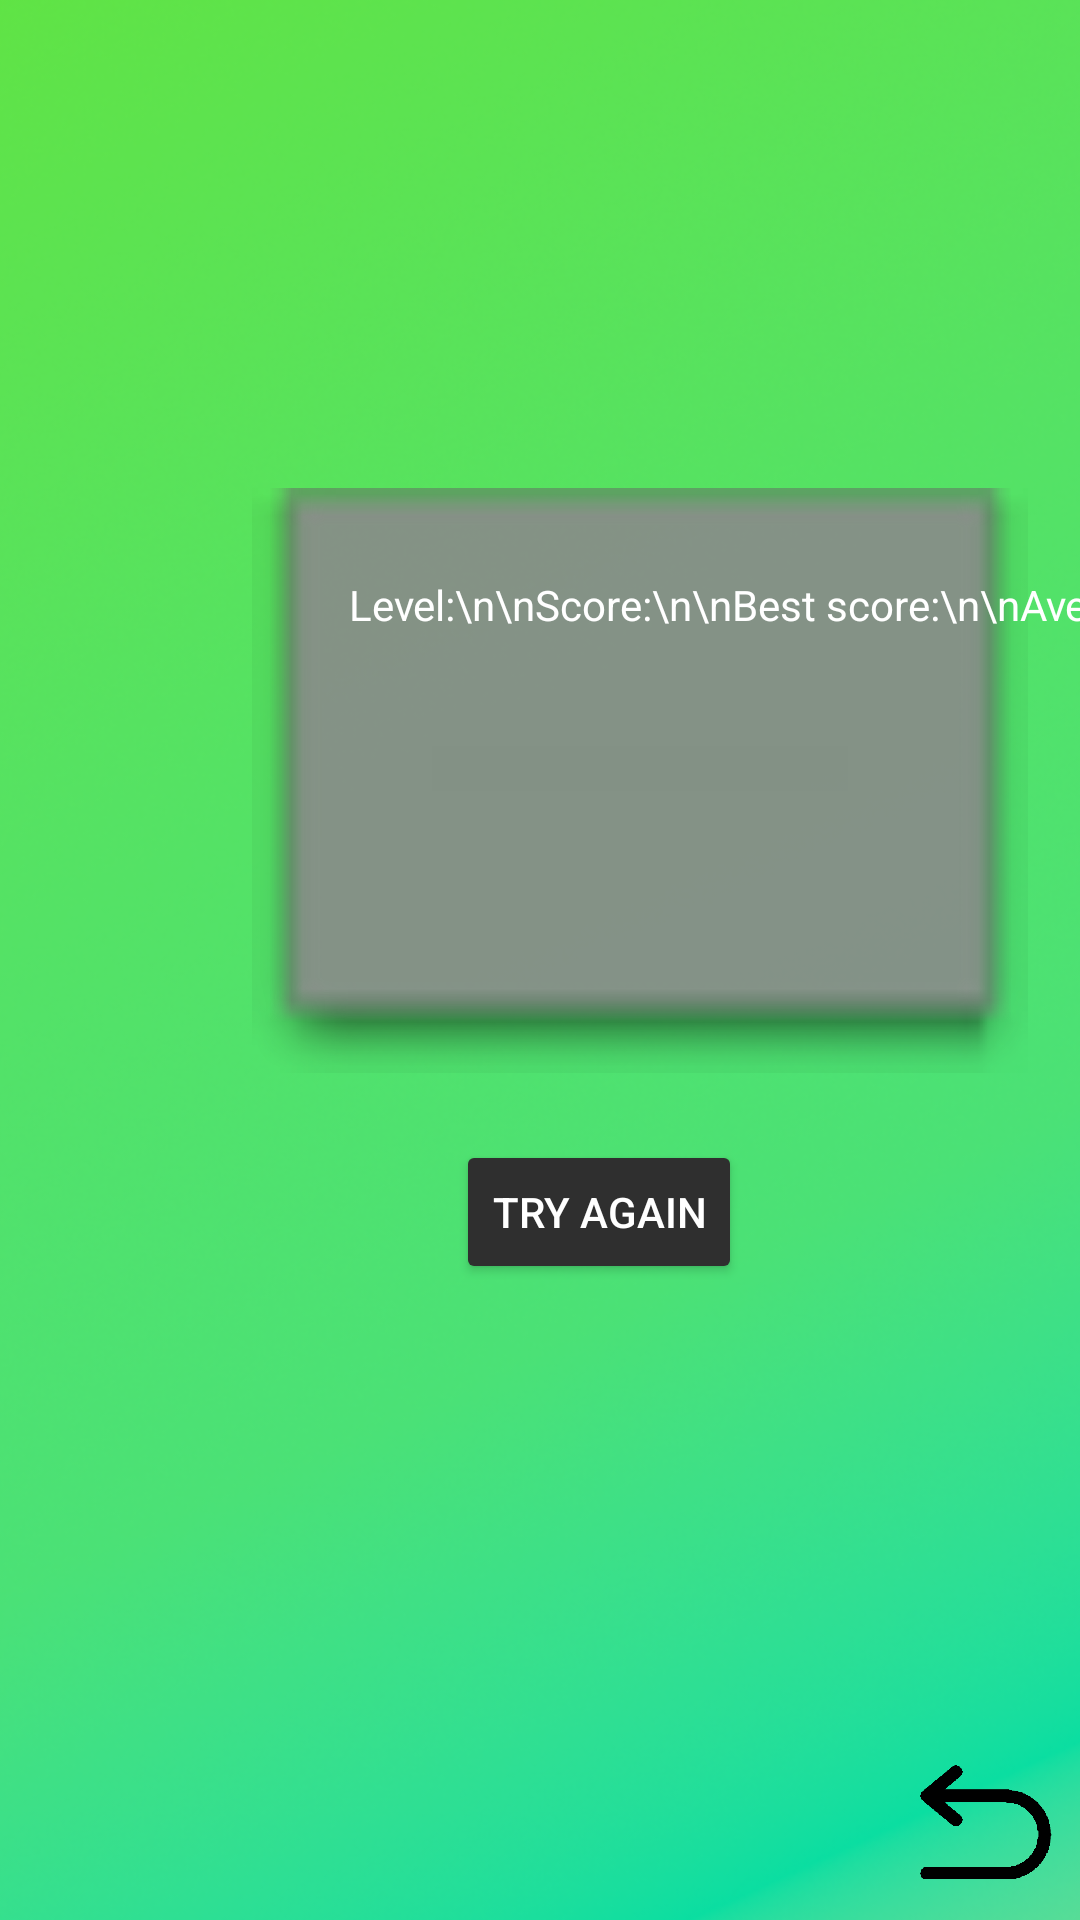

Icon click points for this 1080×1920 phone screenshot, format point (x, y):
buttonbackblack: point (984, 1824)
